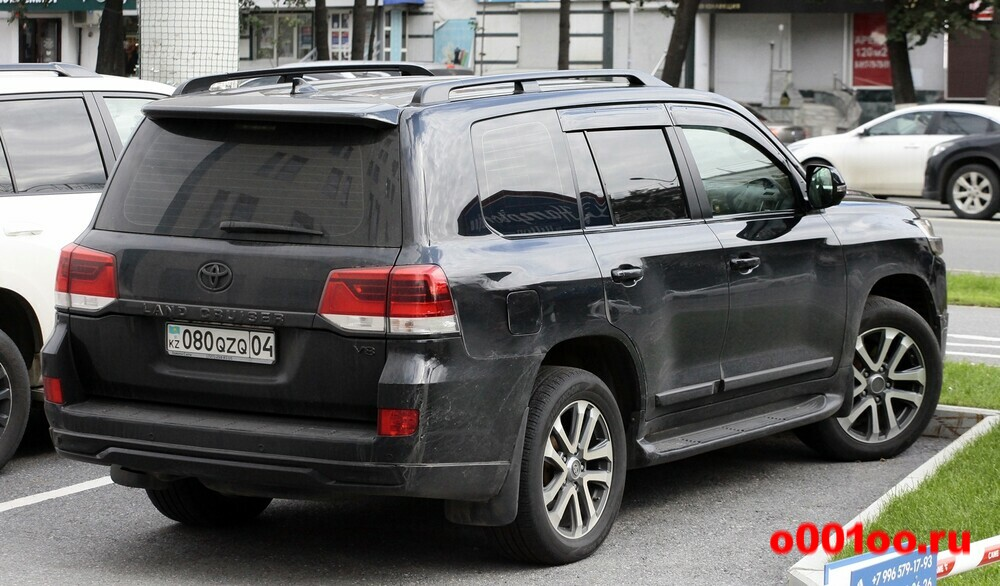license_plate: (166, 321, 279, 365)
